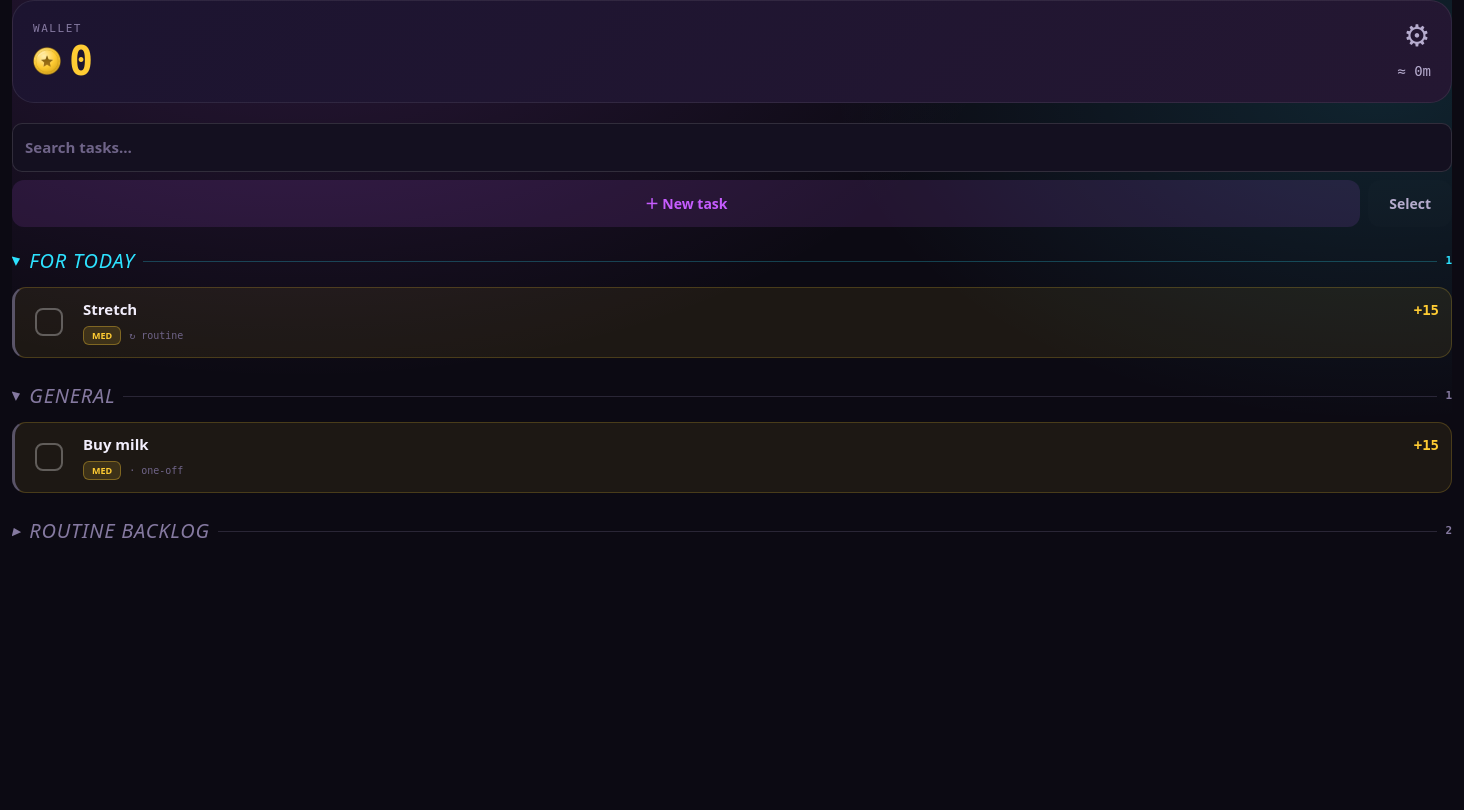
selection is by task, not by row › marks every row of a routine when one of them is picked
Expected: the button "Buy milk" is shown, [83, 435, 1402, 453]
Click the button "▶ Routine backlog". click: (111, 531)
box: [12, 509, 210, 553]
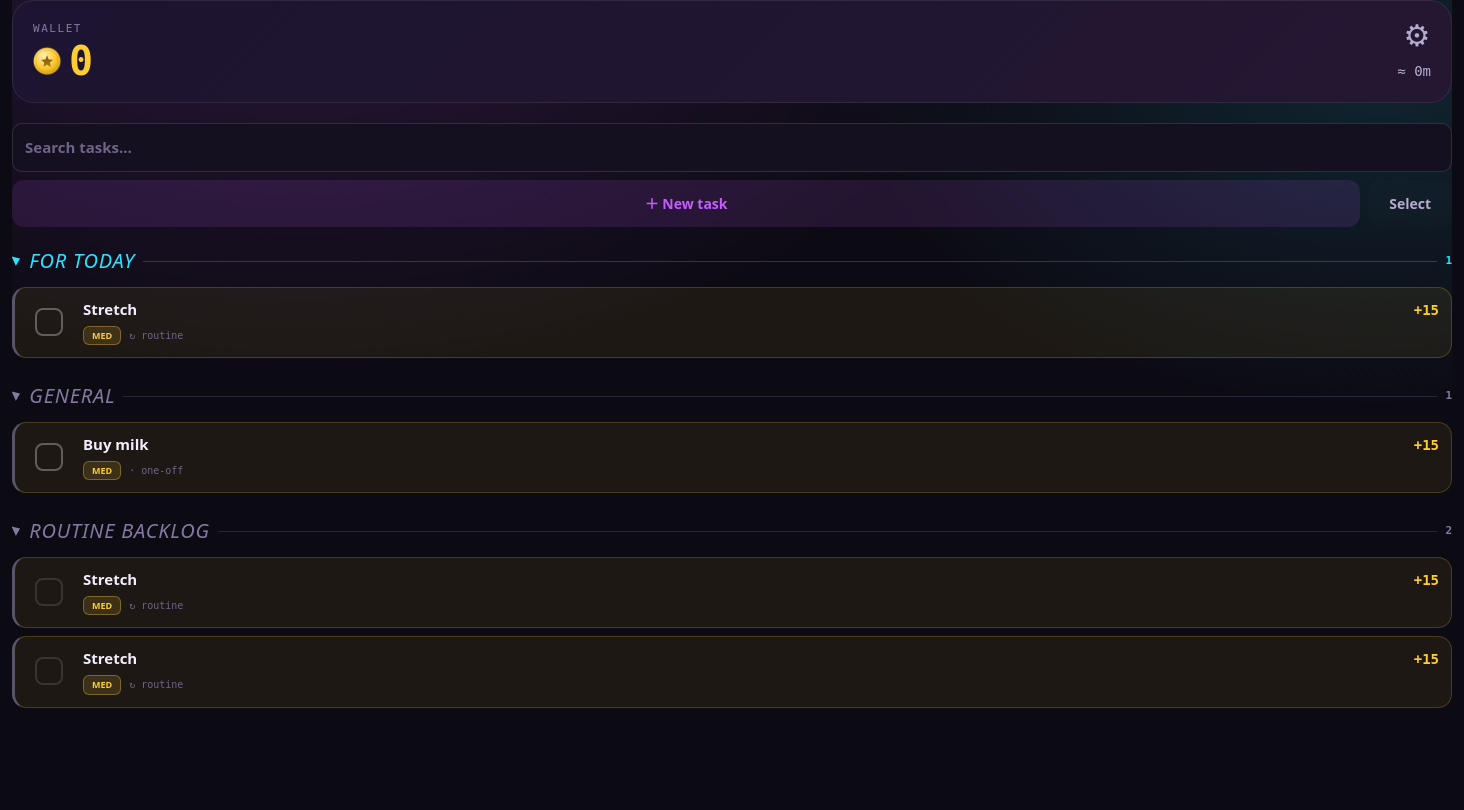
Click the button "Select". click: (1410, 204)
box: [1368, 180, 1452, 227]
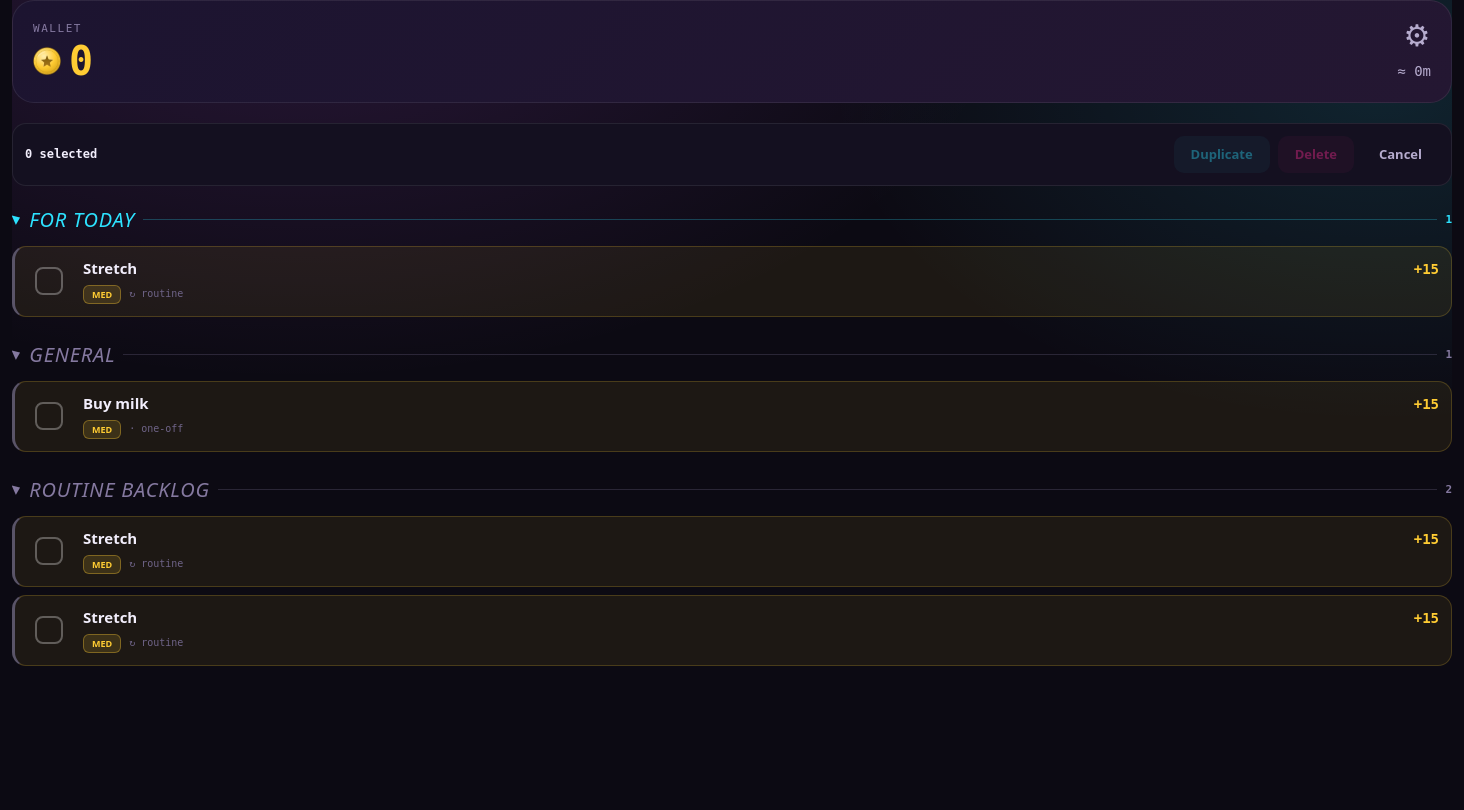
Click the checkbox named "Select Stretch". click: (49, 281)
box: [35, 267, 63, 295]
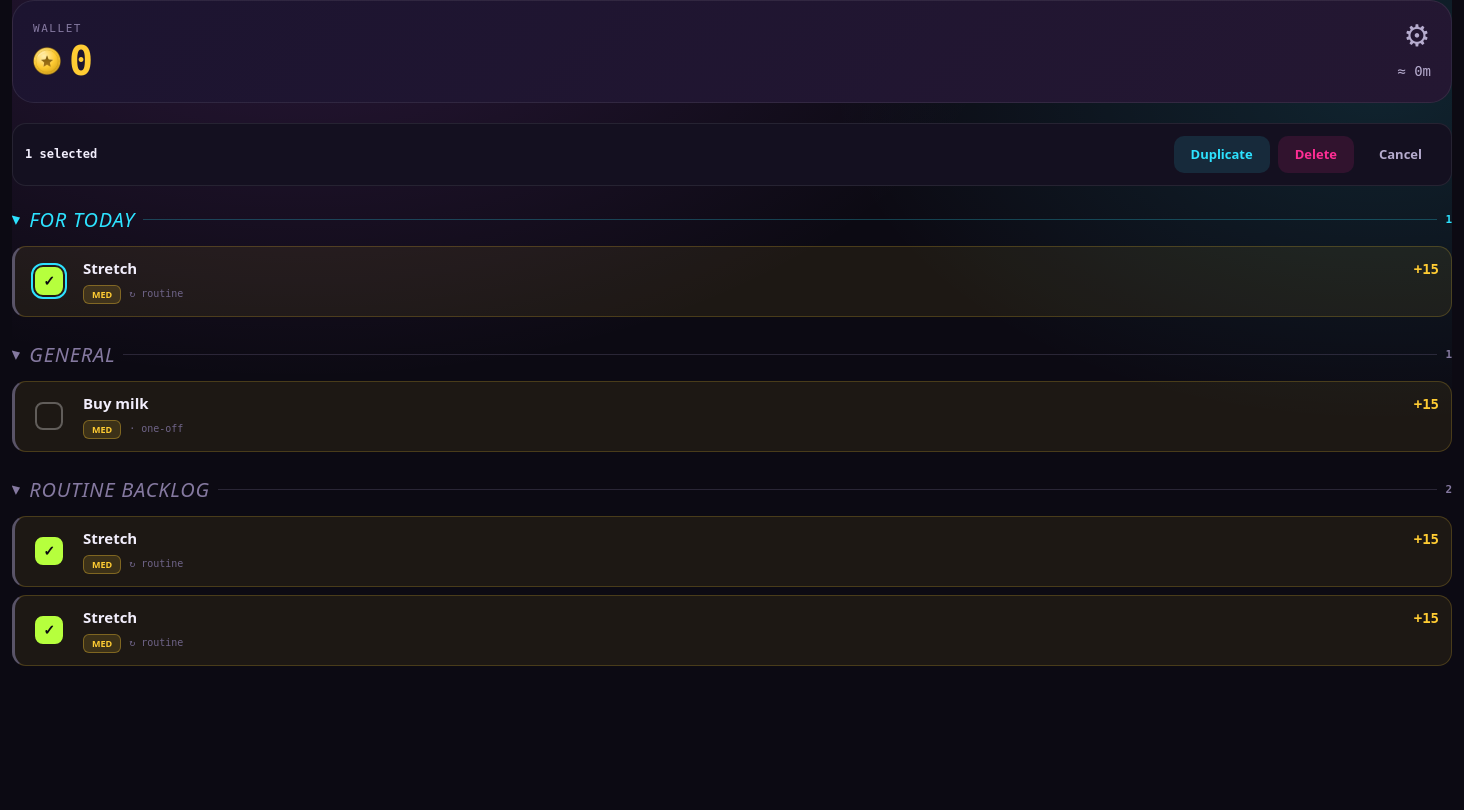
Now the checkbox named "Select Stretch" is checked, box [35, 267, 63, 295]
Now the text "1 selected" is shown, box [25, 147, 97, 161]
